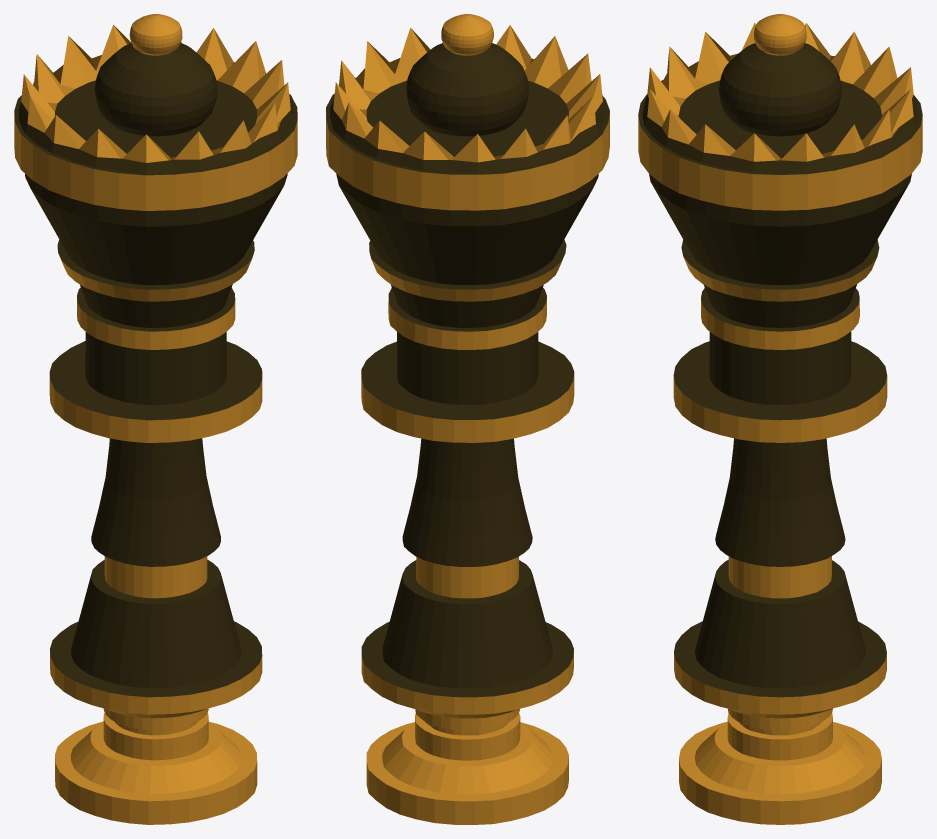
Rendered from metal_q_b.glb.
3 views of the same model, side by side, from view 1: azimuth 30°, elevation 25°; view 2: azimuth 150°, elevation 25°; view 3: azimuth 270°, elevation 25° (orthographic).
Visible parts, largest first — view 1: q1, q0; view 2: q1, q0; view 3: q1, q0.
Part boxes in pixels (box(x1,y1,x2,y2)): q1: box(14, 43, 297, 697); q0: box(14, 14, 297, 824); q1: box(326, 43, 609, 697); q0: box(326, 14, 609, 824); q1: box(638, 43, 922, 697); q0: box(638, 14, 922, 824).
Size of the model in its own units: 0.3029 by 0.9 by 0.3029.
